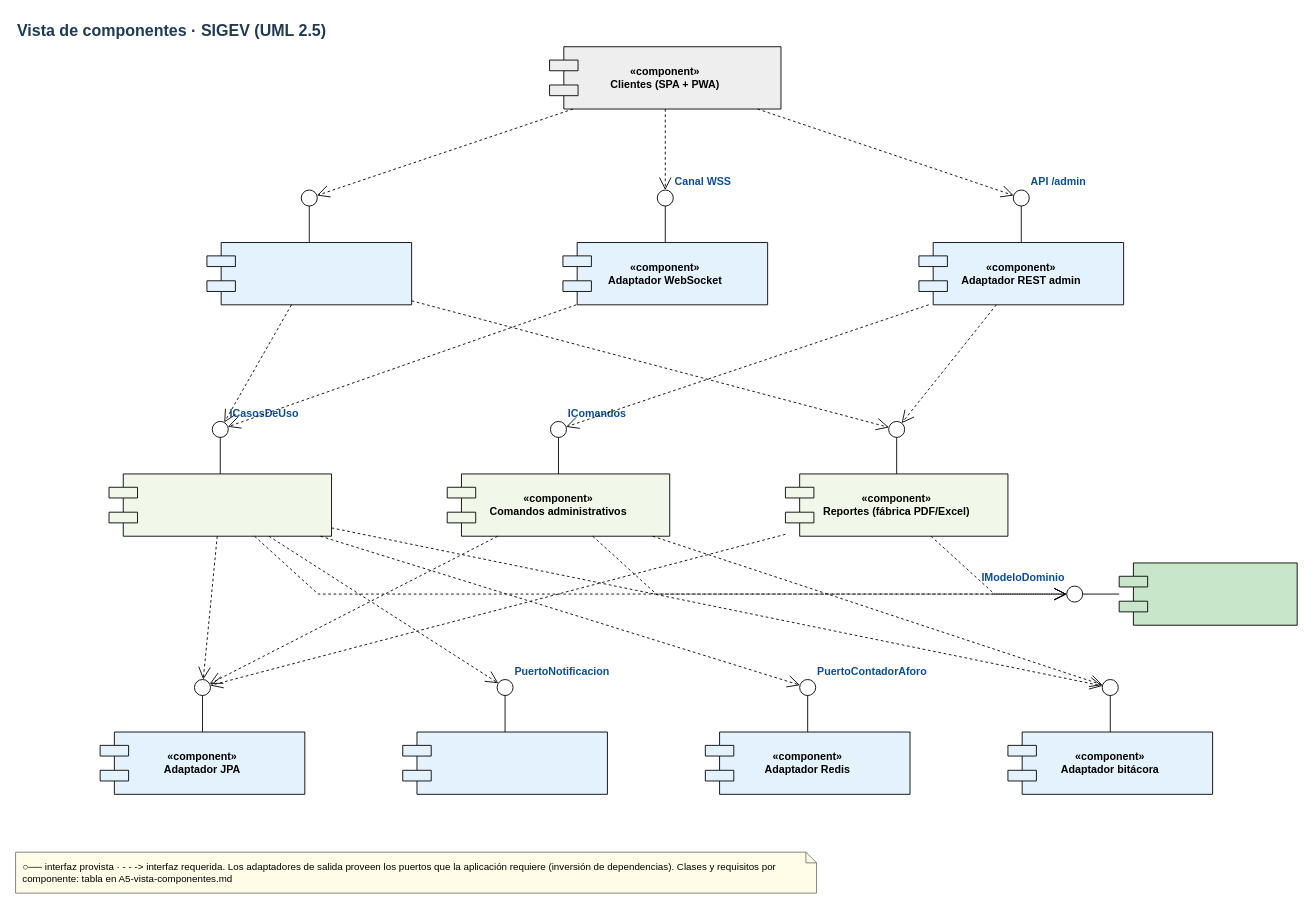
The diagram is 1313 pixels wide and 909 high, and some of its shapes have lost their labels. The shapes that lost their labels are listed below. From the top down, each one's centre as x and y in pixels, then its label:
At point (308, 197): "API /api/v1".
At point (309, 273): "«component» Adaptador REST".
At point (896, 429): "IReportes".
At point (220, 504): "«component» Casos de uso (control de ingreso, aforo)".
At point (1207, 593): "«component» Núcleo de dominio".
At point (202, 687): "RepositorioDatos".
At point (1109, 687): "PuertoAuditoria".
At point (504, 762): "«component» Adaptador mensajería".
